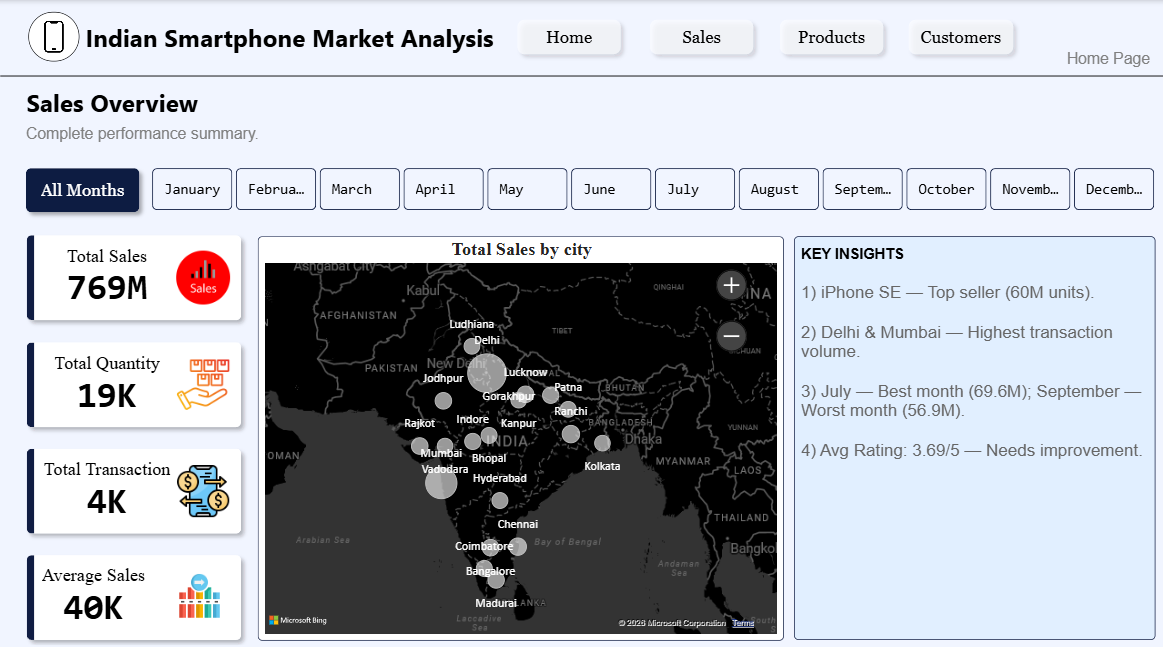

What the dashboard file says about the page in this screenshot:
{"tool":"powerbi","page":{"name":"Page 1","canvas":[1280,720],"ordinal":0},"visuals":[{"type":"cardVisual","fields":{"Data":["Mobile_Sales_Data.Total_Sales","Mobile_Sales_Data.Total Quantity","Mobile_Sales_Data.Total_Transaction","Mobile_Sales_Data.Average"]},"box":[13.5,241.5,269.9,478.5],"z":0},{"type":"shape","box":[93.3,15.1,451.5,50.8],"z":1000},{"type":"actionButton","box":[560.2,12.3,131.7,56.3],"z":2000},{"type":"actionButton","box":[705.7,12.3,131.7,56.3],"z":3000},{"type":"actionButton","box":[848.4,12.3,131.7,56.3],"z":4000},{"type":"actionButton","box":[989.7,12.3,133.1,56.3],"z":5000},{"type":"shape","box":[27,90.8,193.9,42.9],"z":6000},{"type":"shape","box":[25.8,133.7,262.6,28.2],"z":7000},{"type":"shape","box":[20.9,175.5,142.3,66.3],"z":8000},{"type":"shape","box":[1.2,74.8,1278.5,16],"z":9000},{"type":"map","title":"Total Sales by city","fields":{"Category":["Mobile_Sales_Data.City"],"Size":["Mobile_Sales_Data.Total_Sales"]},"box":[283.4,258.9,577.9,444.2],"z":10000},{"type":"textbox","box":[872.7,259.3,396.6,443.2],"z":11000},{"type":"shape","box":[1164.4,50.3,105.5,28.2],"z":12000},{"type":"advancedSlicerVisual","fields":{"Values":["Mobile_Sales_Data.Date.Variation.Date Hierarchy.Month"]},"box":[163.2,180.4,1116.6,56.4],"z":13000},{"type":"image","box":[27.4,8.2,65.9,64.5],"z":14000}]}

Visuals, with their boxes in screenshot pixels (x1, y1, x2, y2), scaled from the page's 1280x720 canvas onto the 1163x647 screenshot:
cardVisual - Mobile_Sales_Data.Total_Sales x Mobile_Sales_Data.Total Quantity: detection(12, 217, 257, 646)
shape: detection(85, 14, 495, 59)
actionButton: detection(509, 11, 629, 62)
actionButton: detection(641, 11, 761, 62)
actionButton: detection(771, 11, 891, 62)
actionButton: detection(899, 11, 1020, 62)
shape: detection(25, 82, 201, 120)
shape: detection(23, 120, 262, 145)
shape: detection(19, 158, 148, 217)
shape: detection(1, 67, 1162, 82)
"Total Sales by city" map: detection(257, 233, 783, 632)
textbox: detection(793, 233, 1153, 631)
shape: detection(1058, 45, 1154, 71)
advancedSlicerVisual - Mobile_Sales_Data.Date.Variation.Date Hierarchy.Month: detection(148, 162, 1162, 213)
image: detection(25, 7, 85, 65)
